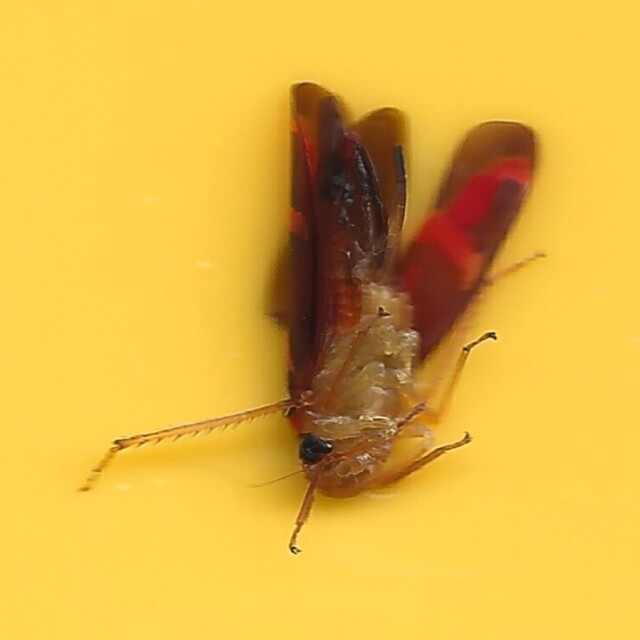Hemiptera: (94, 82, 546, 558)
